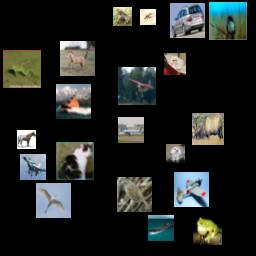airplane: (118, 67, 156, 105), (174, 172, 209, 207), (118, 117, 144, 143), (20, 154, 46, 180), (140, 9, 156, 25)
automobile: (170, 3, 205, 38)
bird: (209, 2, 247, 40), (36, 183, 71, 218), (117, 177, 152, 212)
cat: (56, 142, 94, 180), (164, 53, 186, 75)
deer: (192, 113, 224, 145)
dog: (166, 144, 185, 163)
frog: (3, 50, 41, 88), (193, 216, 222, 245), (113, 7, 132, 26)
ship: (56, 84, 91, 119), (148, 215, 174, 241)
